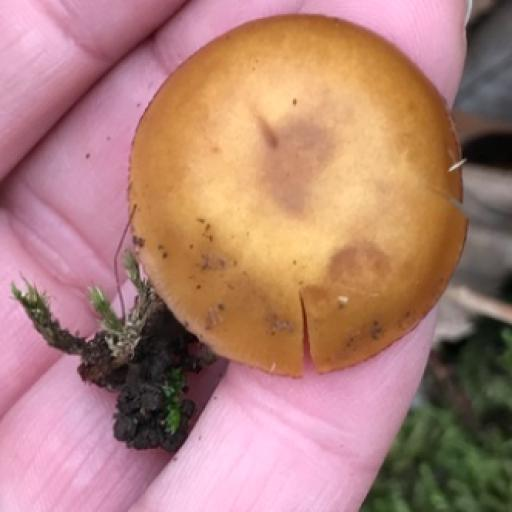mushroom: (67, 6, 476, 450)
